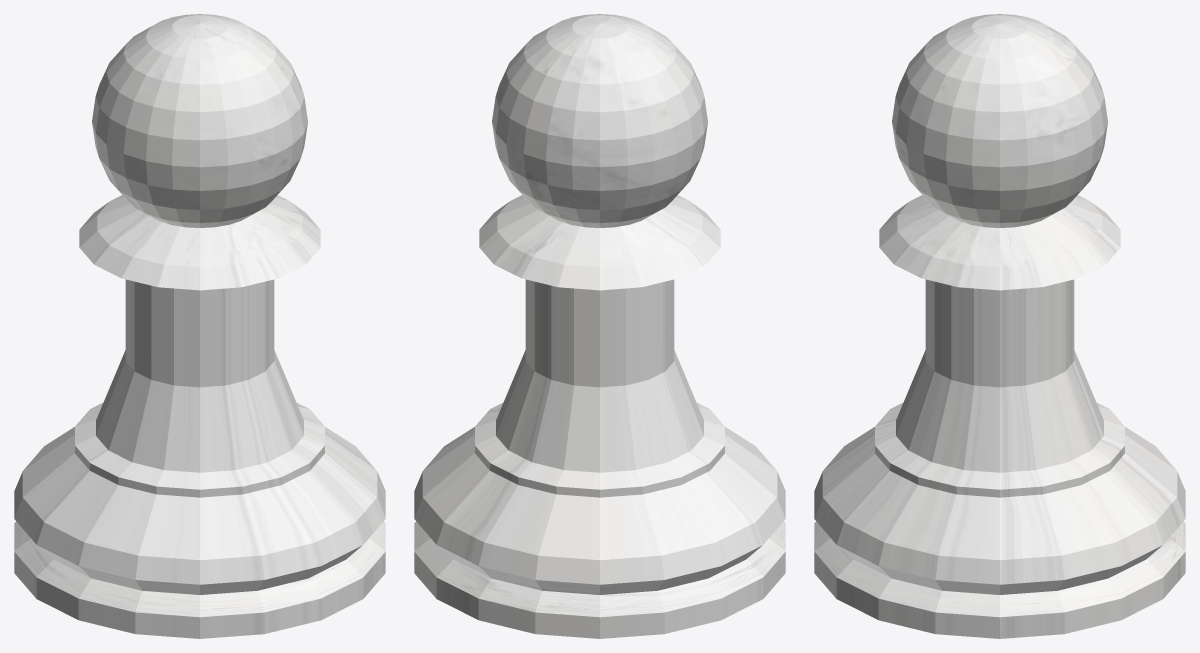
Rendered from w_pawn_1.obj.
3 renders of one model, left to right at view 1: azimuth 30°, elevation 25°; view 2: azimuth 150°, elevation 25°; view 3: azimuth 270°, elevation 25°, orthographic.
Size of the model in its own units: 0.1443 by 0.2323 by 0.1422.
1 material, 1 textured.
